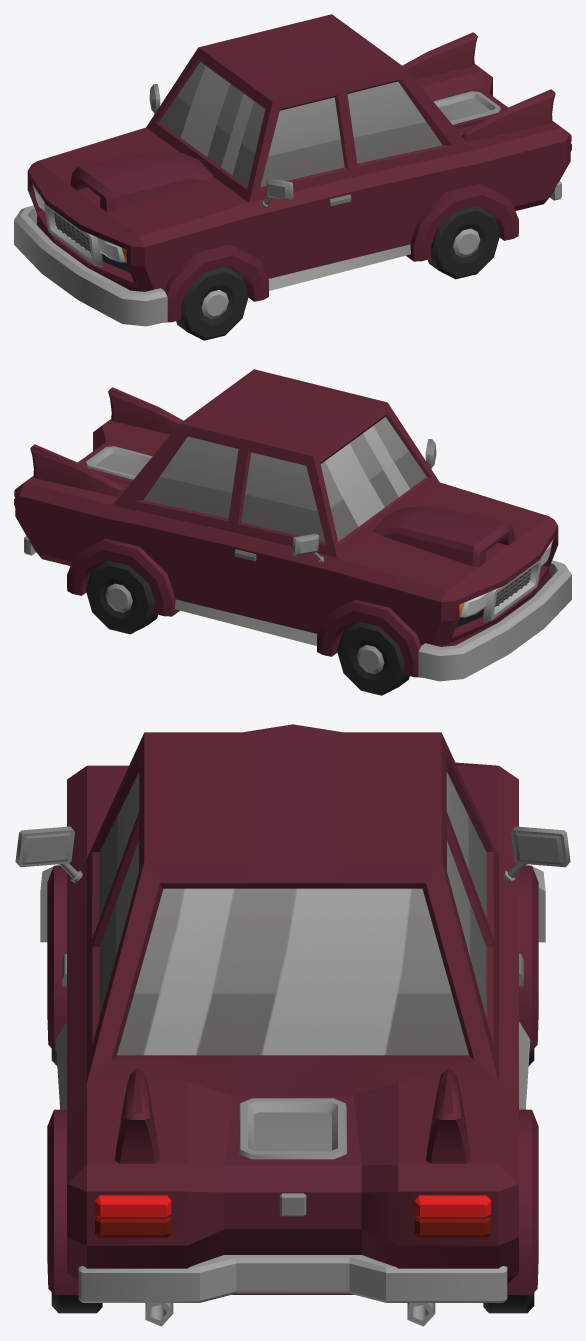
Rendered from Car_10_U.fbx.
3 views of the same model, one above another, from view 1: azimuth 30°, elevation 25°; view 2: azimuth 150°, elevation 25°; view 3: azimuth 270°, elevation 25° (orthographic). The views are drawn at different scales.
Parts seen in each view (by area): view 1: Car_10_U, RL, FL; view 2: Car_10_U, RR, FR; view 3: Car_10_U, RL, RR.
Part boxes in pixels (<box>): Car_10_U: <box>14,14,571,326</box>; RL: <box>428,205,500,279</box>; FL: <box>176,266,248,340</box>; Car_10_U: <box>14,369,571,681</box>; RR: <box>85,560,157,634</box>; FR: <box>337,621,409,695</box>; Car_10_U: <box>15,724,570,1326</box>; RL: <box>51,1293,102,1313</box>; RR: <box>483,1293,534,1313</box>.
Bounding box in the file's own units: 3.58 × 1.49 × 1.85.
